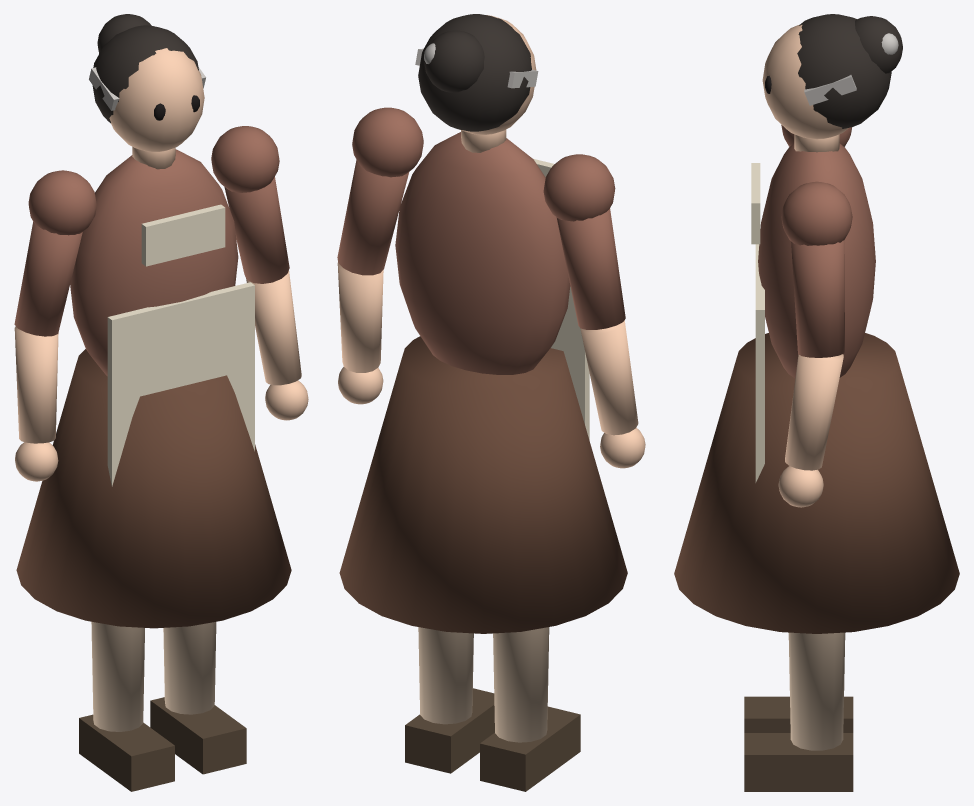
Rendered from piang.glb.
The picture shows the model from 3 angles, left to right: view 1: azimuth 30°, elevation 25°; view 2: azimuth 150°, elevation 25°; view 3: azimuth 270°, elevation 25°; orthographic projection. The views are drawn at different scales.
Parts seen in each view (by area): view 1: piang; view 2: piang; view 3: piang.
Part boxes in pixels (x1,y1,x2,y2): piang: (14,14,308,791); piang: (337,14,645,791); piang: (674,14,959,791).
Size of the model in its own units: 0.6527 by 1.55 by 0.54.
